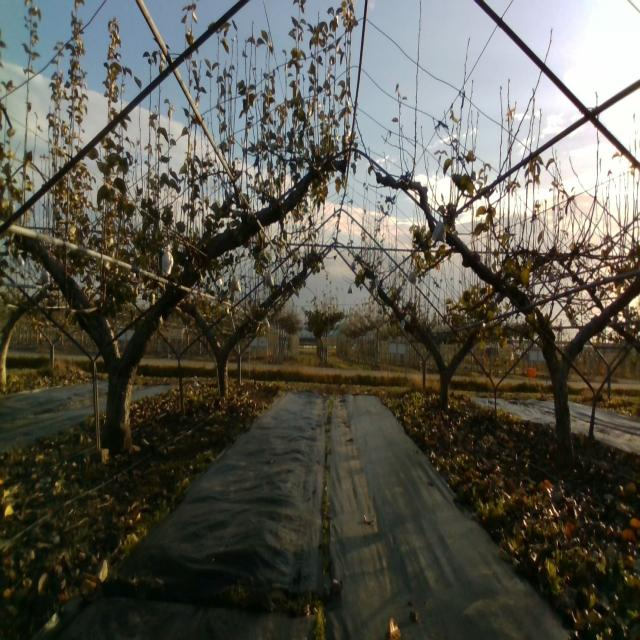pearbags: (431, 219, 446, 244), (162, 244, 174, 275), (230, 274, 241, 294)
